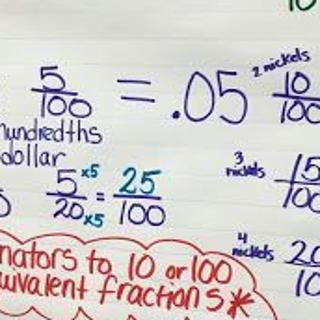.: (168, 103, 180, 122)
0: (181, 67, 215, 126), (67, 96, 94, 122), (47, 92, 68, 118), (145, 204, 166, 227), (126, 201, 145, 226)
1: (118, 201, 126, 225), (39, 91, 46, 118)
2: (117, 165, 139, 194)
5: (214, 63, 249, 128), (36, 62, 75, 92), (137, 168, 163, 196)
